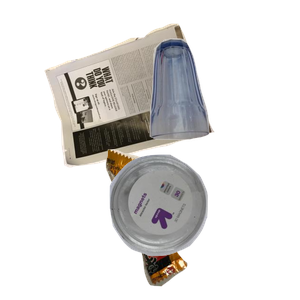glass: (147, 36, 300, 168)
paper: (42, 21, 249, 181)
plastic: (107, 152, 300, 300)
trash: (103, 147, 300, 300)
